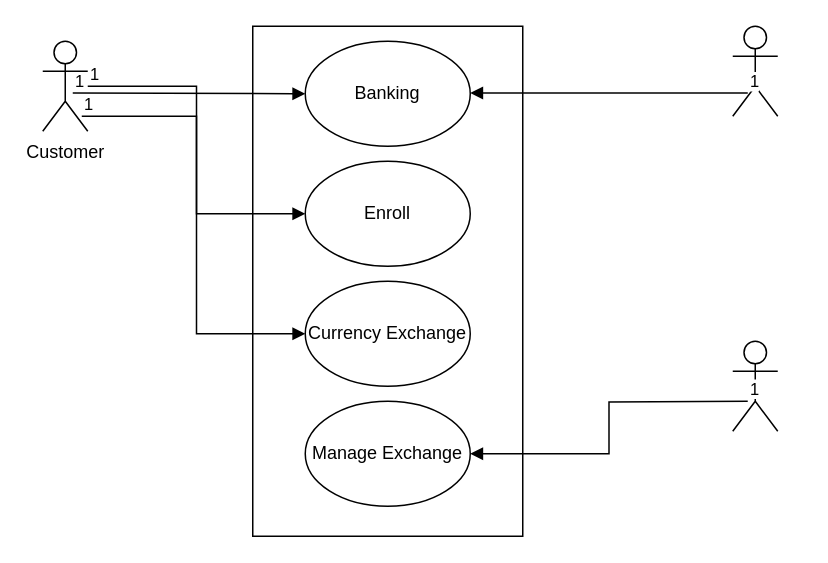
This 828x563 diagram has some shape labels left out. The centre of each missing label's shape, as x and y in pixels:
"Admin" belongs at [754,385].
"Bank Admin" belongs at [754,70].
